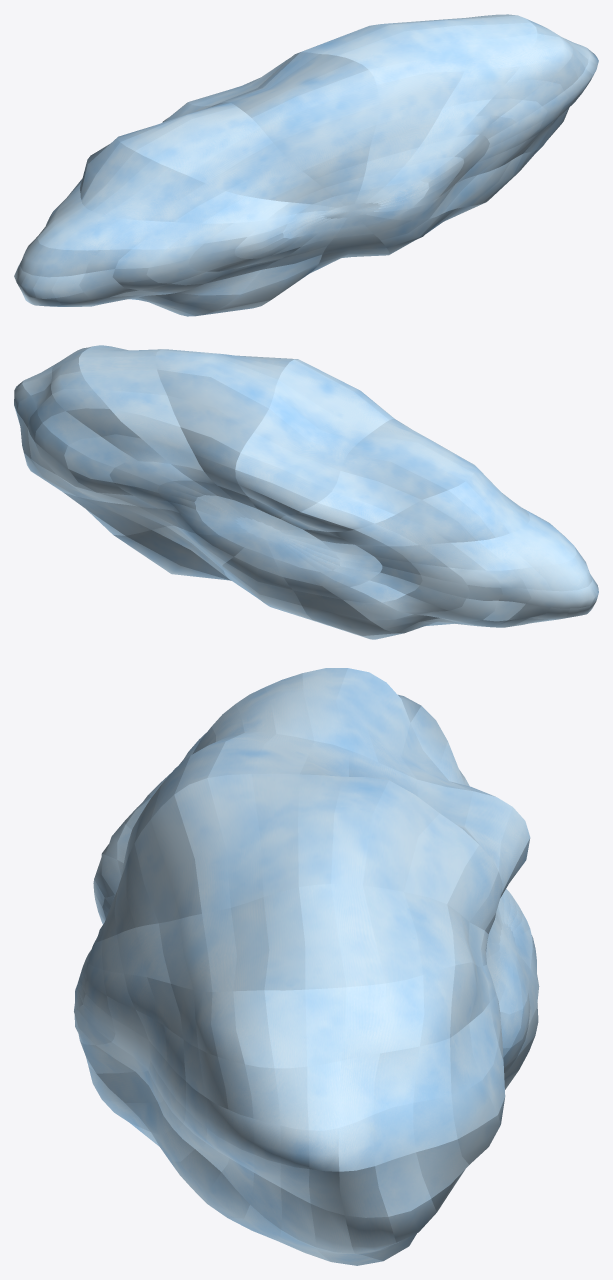
Rendered from cloud3.fbx.
The picture shows the model from 3 angles, top to bottom: view 1: azimuth 30°, elevation 25°; view 2: azimuth 150°, elevation 25°; view 3: azimuth 270°, elevation 25°; orthographic projection. The views are drawn at different scales.
Parts seen in each view (by area): view 1: pasted__pSphere2.001; view 2: pasted__pSphere2.001; view 3: pasted__pSphere2.001.
Part boxes in pixels (x1,y1,x2,y2): pasted__pSphere2.001: (14,14,598,316); pasted__pSphere2.001: (14,345,598,639); pasted__pSphere2.001: (74,668,539,1265).
Bounding box in the file's own units: 13554 × 4914 × 4788.
Materials: 1 (1 with a texture image).
